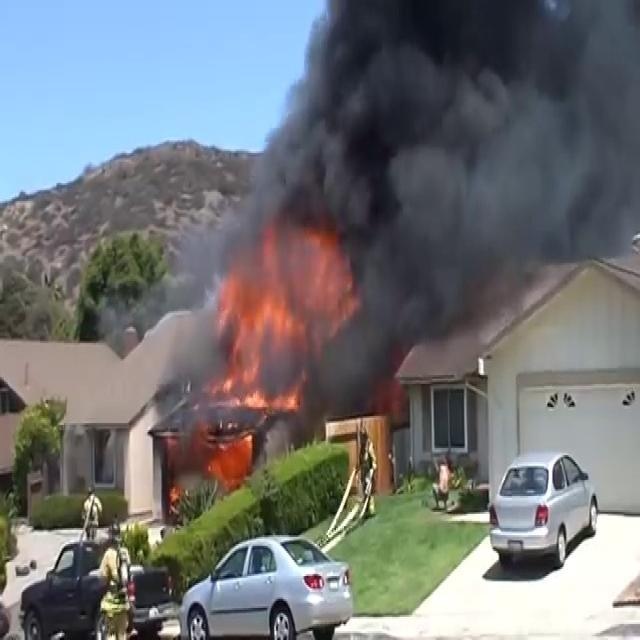Fire: (203, 222, 360, 402)
Smoke: (230, 0, 640, 356)
